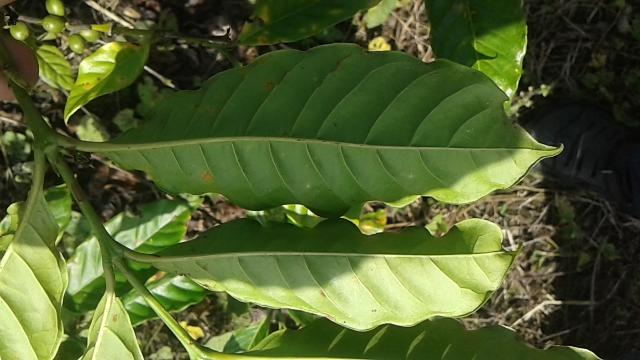rust_level_1: (103, 40, 570, 218)
